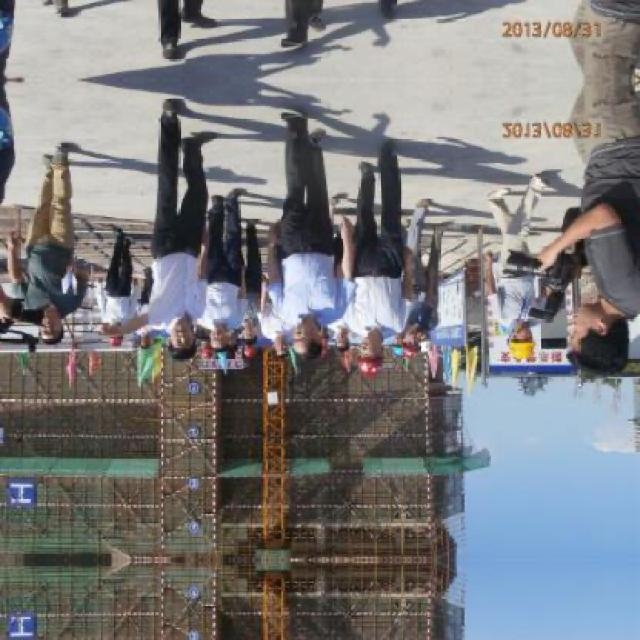con casco: (347, 316, 409, 384)
sin casco: (577, 296, 640, 382), (0, 298, 89, 357), (191, 297, 270, 362), (262, 311, 331, 370), (146, 296, 192, 361)
